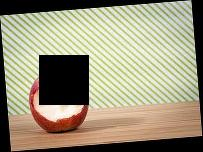rotten apple: (28, 70, 93, 136)
